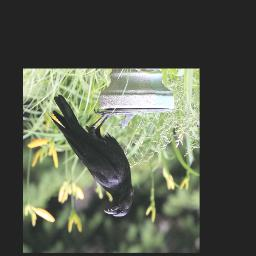Crow: (48, 93, 134, 217)
